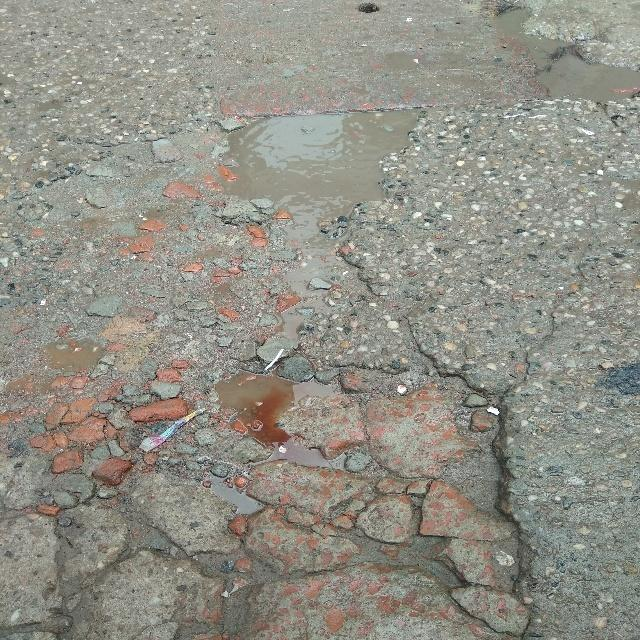Surface Erosion: (8, 26, 624, 640)
